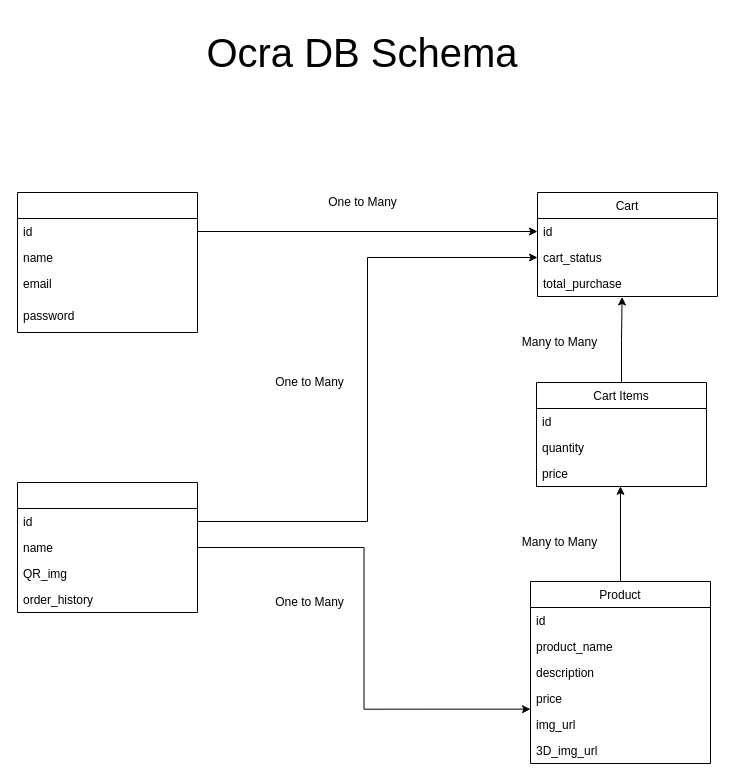
The diagram is 735 pixels wide and 783 high, and some of its shapes have lost their labels. The shapes that lost their labels are listed below. From the top down, each one's box as (x1, y1, x2, y2) in pixels, then its label:
(16, 192, 198, 332): User
(16, 482, 198, 612): Restaurant
